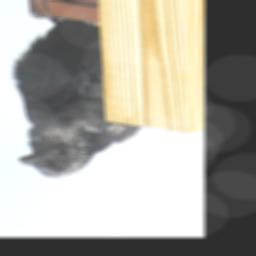Crow: (9, 13, 140, 179)
